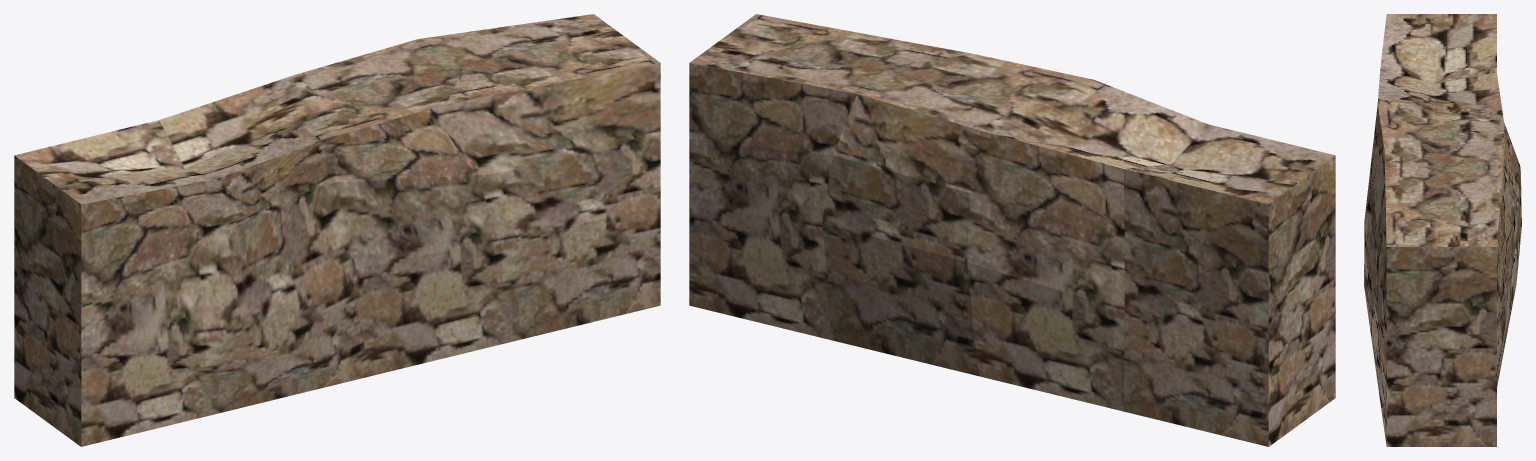
The model's file is drystone_wall.fbx.
The picture shows the model from 3 angles, left to right: view 1: azimuth 30°, elevation 25°; view 2: azimuth 150°, elevation 25°; view 3: azimuth 270°, elevation 25°; orthographic projection. The views are drawn at different scales.
Visible parts, largest first — view 1: drystone_wall; view 2: drystone_wall; view 3: drystone_wall.
Part boxes in pixels (<box>): drystone_wall: <box>14,14,660,446</box>; drystone_wall: <box>689,14,1335,446</box>; drystone_wall: <box>1364,14,1521,446</box>.
Size of the model in its own units: 200 by 84.59 by 57.29.
Materials: 1 (1 with a texture image).
